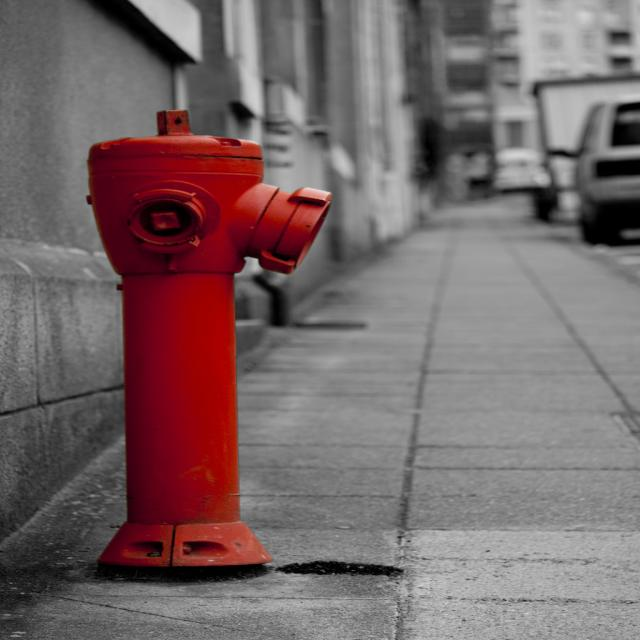fire_hydrant: (88, 111, 334, 565)
